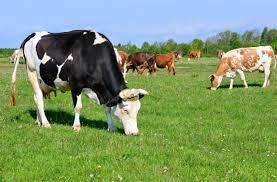cow: (20, 29, 140, 136), (209, 44, 274, 90), (149, 54, 175, 76), (188, 50, 201, 61)
